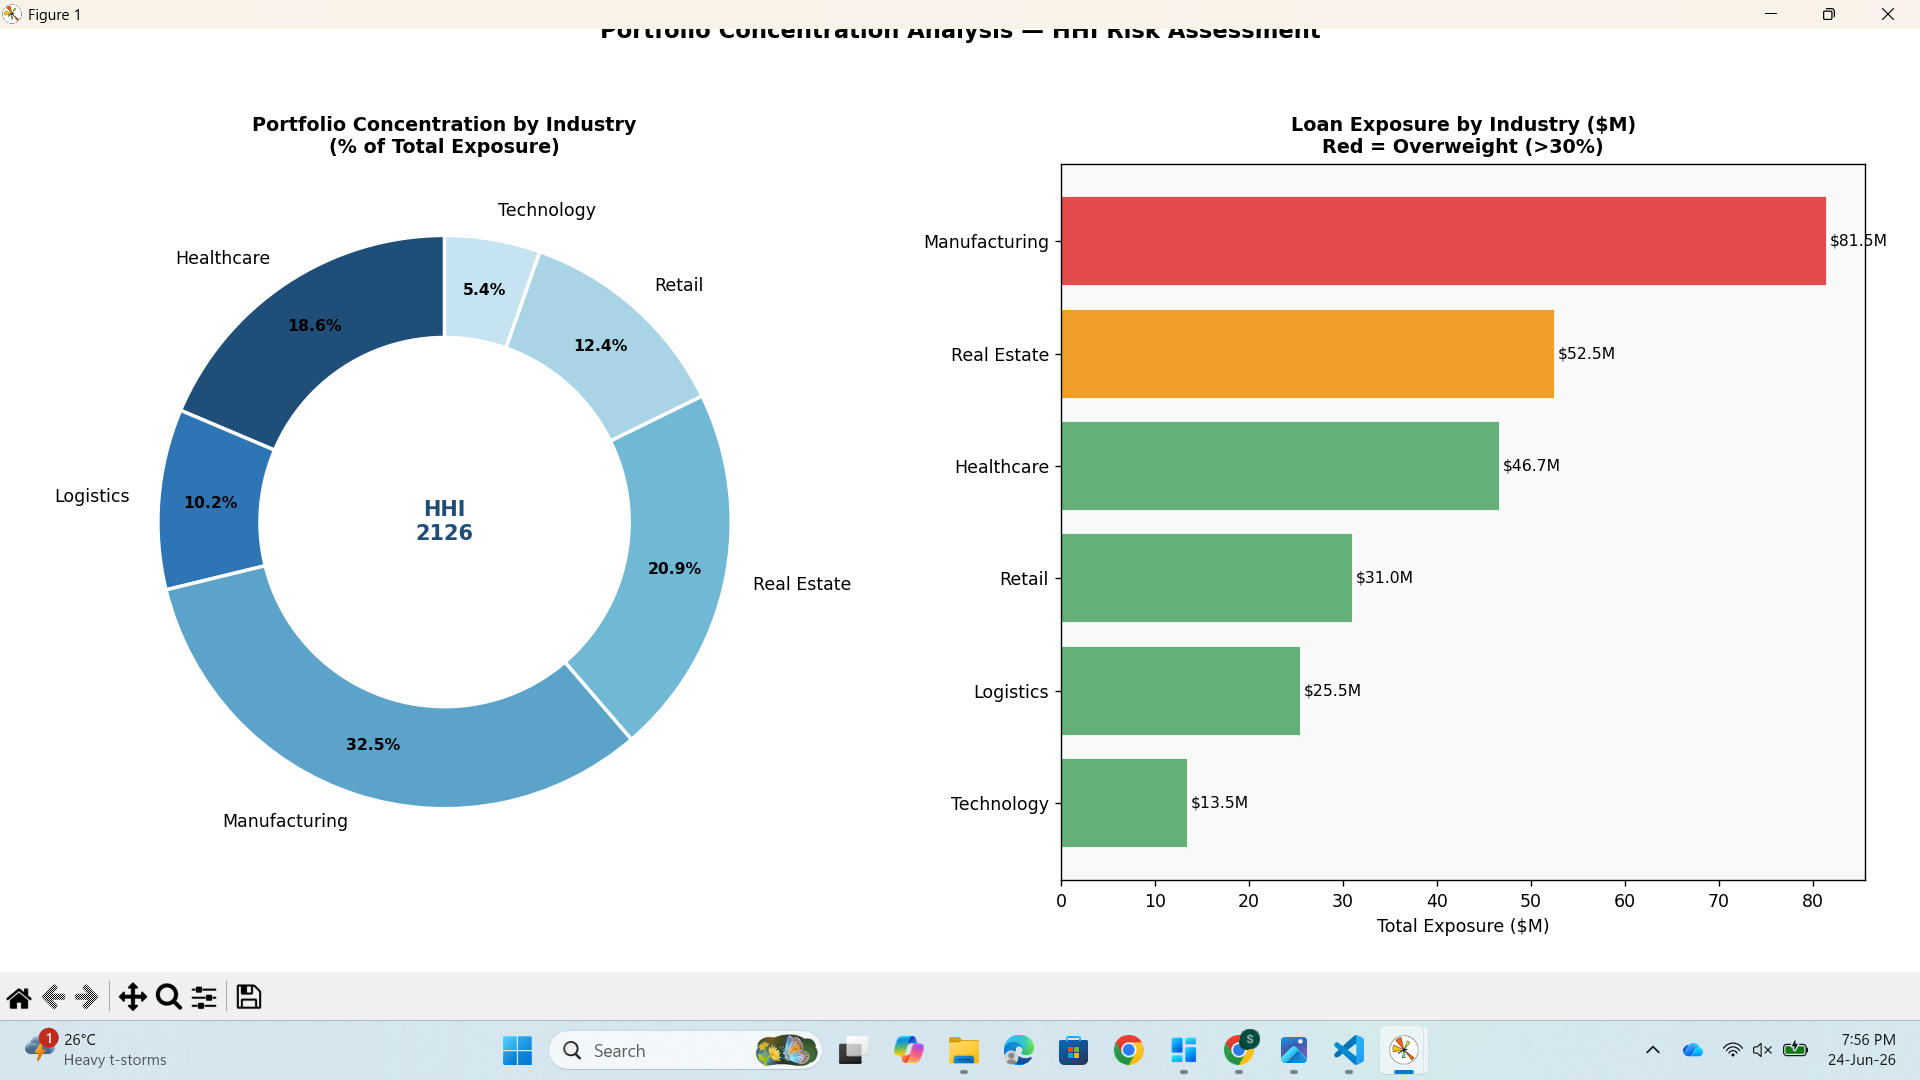

What the dashboard file says about the page in this screenshot:
{"tool":"powerbi","page":{"name":"Page 4","canvas":[1280,720],"ordinal":3},"visuals":[{"type":"textbox","box":[320,0,624,48],"z":0},{"type":"treemap","title":"Portfolio Concentration by Industry","fields":{"Group":["borrowers_data.industry"],"Values":["Sum(borrowers_data.loan_amount)"]},"box":[0,64,656,640],"z":1},{"type":"clusteredBarChart","title":"Loan Exposure by Industry ($)","fields":{"Category":["borrowers_data.industry"],"Y":["Sum(borrowers_data.loan_amount)"]},"box":[656,64,608,336],"z":2},{"type":"cardVisual","fields":{"Data":["HHI_Data.HHI Score"]},"box":[672,416,592,96],"z":3},{"type":"tableEx","fields":{"Values":["HHI_Data.Industry","HHI_Data.Borrowers","HHI_Data.Exposure ($M)","HHI_Data.Portfolio %","HHI_Data.HHI Component"]},"box":[672,528,592,192],"z":4}]}

Visuals, with their boxes on the page's 1280x720 design canvas (x1, y1, x2, y2). These are canvas units, not pixel positions in the 1920x1080 screenshot, which may show the page scaled, cropped or inside an application window:
textbox: detection(320, 0, 944, 48)
"Portfolio Concentration by Industry" treemap: detection(0, 64, 656, 704)
"Loan Exposure by Industry ($)" clusteredBarChart: detection(656, 64, 1264, 400)
cardVisual - HHI_Data.HHI Score: detection(672, 416, 1264, 512)
tableEx - HHI_Data.Industry x HHI_Data.Borrowers: detection(672, 528, 1264, 720)
